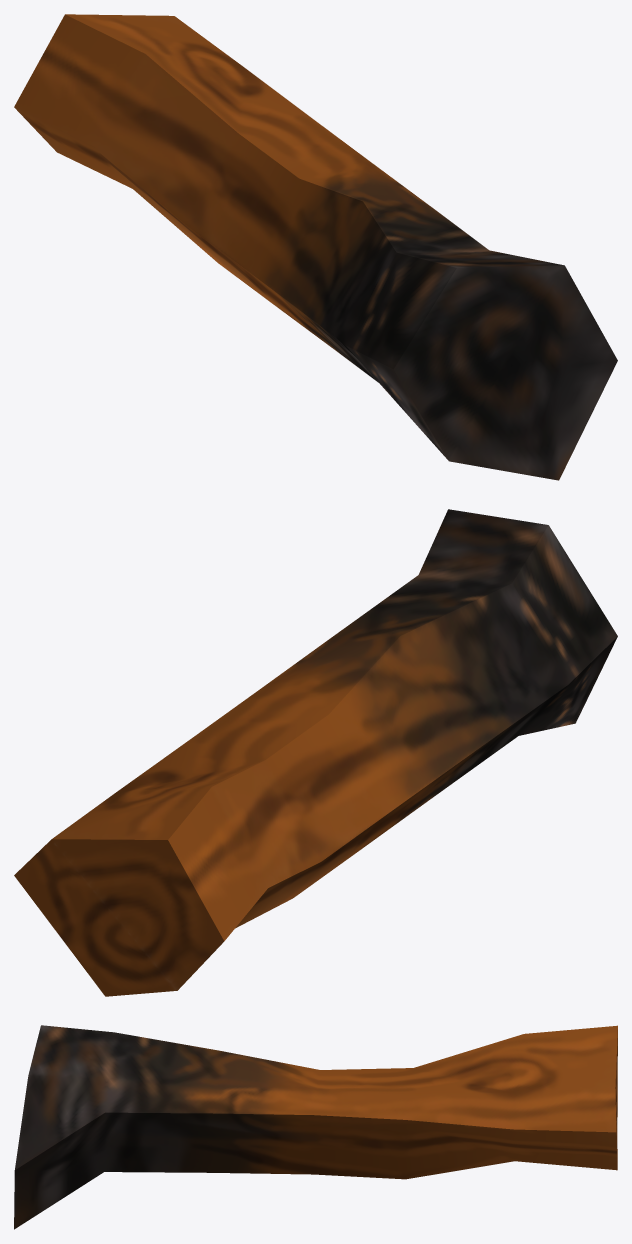
Rendered from assets_same_uvset_tronco_quemado_grande.fbx.
3 renders of one model, top to bottom at view 1: azimuth 30°, elevation 25°; view 2: azimuth 150°, elevation 25°; view 3: azimuth 270°, elevation 25°, orthographic. The views are drawn at different scales.
Visible parts, largest first — view 1: assets_same_uvset:tronco_quemado_grande; view 2: assets_same_uvset:tronco_quemado_grande; view 3: assets_same_uvset:tronco_quemado_grande.
Part boxes in pixels (x1=…): assets_same_uvset:tronco_quemado_grande: x1=14, y1=14, x2=617, y2=480; assets_same_uvset:tronco_quemado_grande: x1=14, y1=509, x2=617, y2=996; assets_same_uvset:tronco_quemado_grande: x1=14, y1=1025, x2=617, y2=1229.
Bounding box in the file's own units: 2.17 × 2.1 × 6.68.
Materials: 1 (1 with a texture image).
